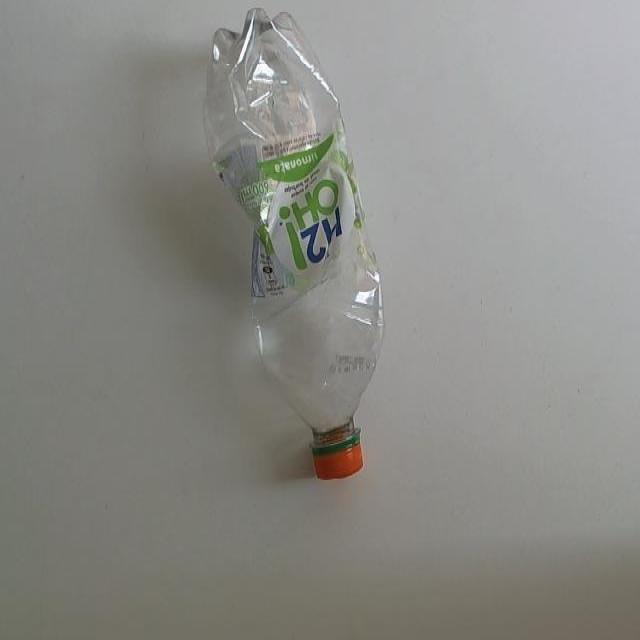defect: (205, 4, 388, 485)
